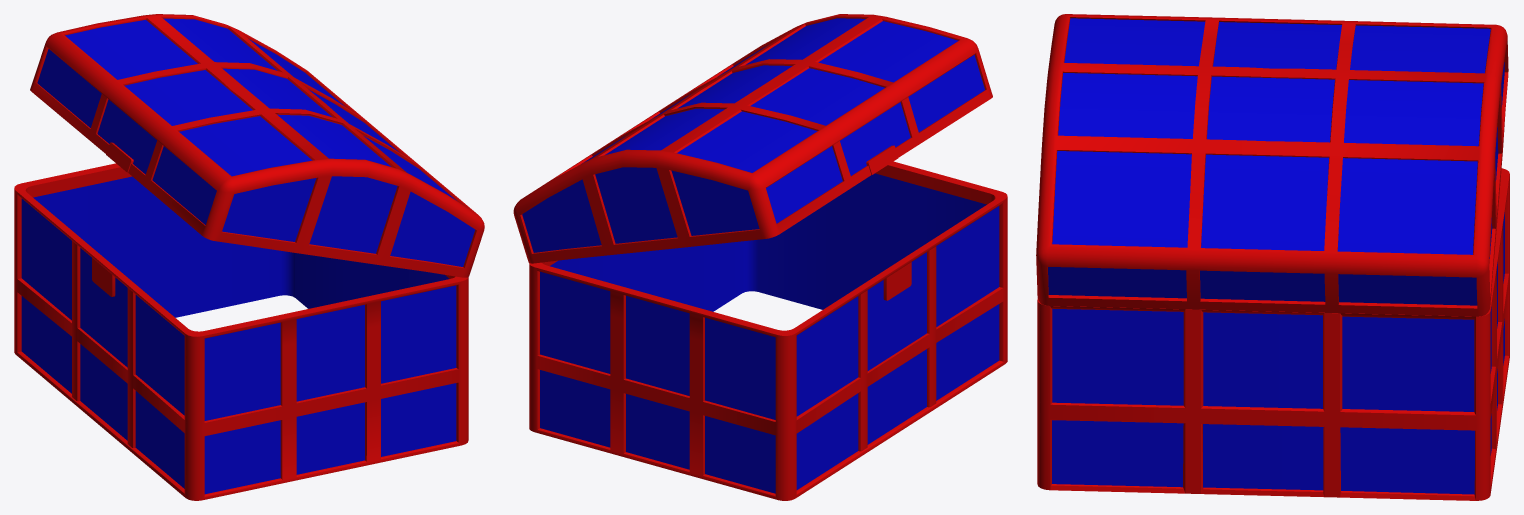
The model's file is coffre.fbx.
The picture shows the model from 3 angles, left to right: view 1: azimuth 30°, elevation 25°; view 2: azimuth 150°, elevation 25°; view 3: azimuth 270°, elevation 25°; orthographic projection. The views are drawn at different scales.
Parts seen in each view (by area): view 1: coffre; view 2: coffre; view 3: coffre.
Boxes of the visible parts, <box> form: coffre: <box>14,14,484,500</box>; coffre: <box>513,14,1007,500</box>; coffre: <box>1036,14,1509,500</box>.
Size of the model in its own units: 59.22 by 57.51 by 70.53.
